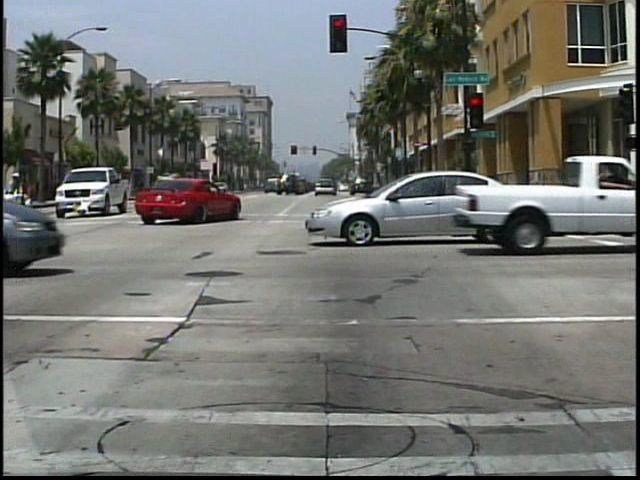person: (4, 171, 39, 224)
